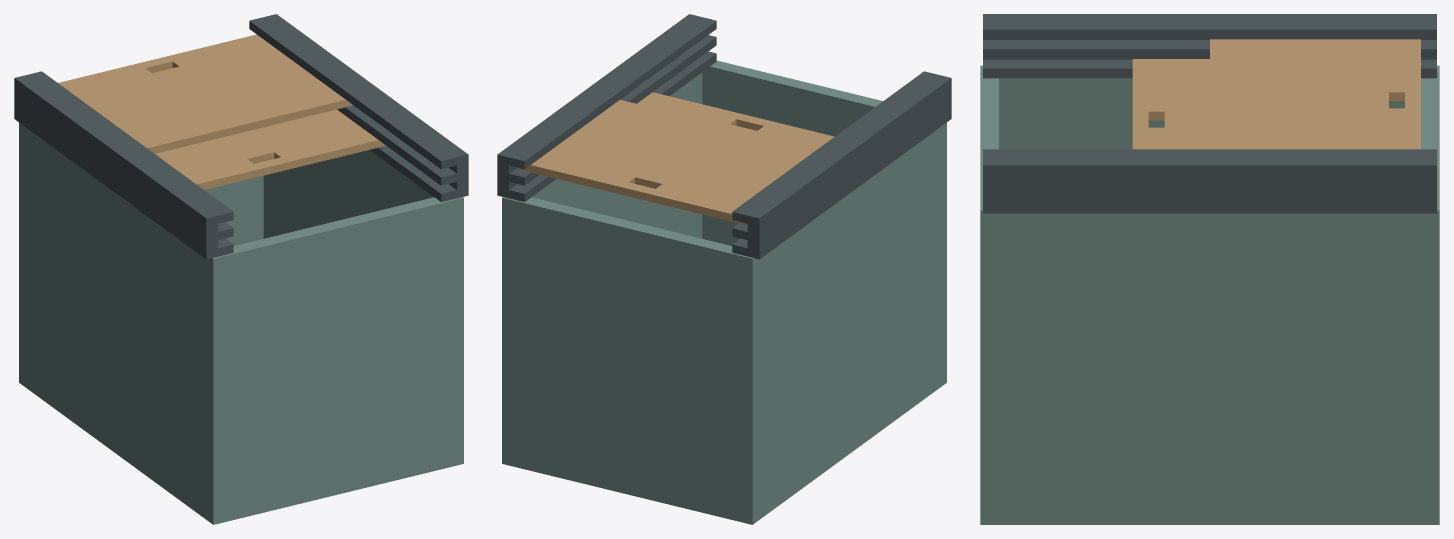
The picture shows the model from 3 angles, left to right: view 1: azimuth 30°, elevation 25°; view 2: azimuth 150°, elevation 25°; view 3: azimuth 270°, elevation 25°; orthographic projection. The views are drawn at different scales.
Visible parts, largest first — view 1: WholeDeepClayChestShell, UpperRearPiercedCover, LeftWholeTwinChannelRail, RightWholeTwinChannelRail, LowerPartlyRetractedPiercedCover; view 2: WholeDeepClayChestShell, UpperRearPiercedCover, LeftWholeTwinChannelRail, RightWholeTwinChannelRail, LowerPartlyRetractedPiercedCover; view 3: WholeDeepClayChestShell, RightWholeTwinChannelRail, UpperRearPiercedCover, LeftWholeTwinChannelRail, LowerPartlyRetractedPiercedCover.
Part boxes in pixels (x1=…): WholeDeepClayChestShell: x1=19, y1=122, x2=463, y2=524; UpperRearPiercedCover: x1=58, y1=34, x2=352, y2=153; LeftWholeTwinChannelRail: x1=14, y1=71, x2=233, y2=259; RightWholeTwinChannelRail: x1=249, y1=14, x2=468, y2=201; LowerPartlyRetractedPiercedCover: x1=155, y1=109, x2=385, y2=189; WholeDeepClayChestShell: x1=502, y1=60, x2=946, y2=524; UpperRearPiercedCover: x1=517, y1=100, x2=818, y2=225; LeftWholeTwinChannelRail: x1=732, y1=71, x2=951, y2=259; RightWholeTwinChannelRail: x1=497, y1=14, x2=716, y2=201; LowerPartlyRetractedPiercedCover: x1=637, y1=92, x2=834, y2=148; WholeDeepClayChestShell: x1=980, y1=65, x2=1439, y2=524; RightWholeTwinChannelRail: x1=983, y1=149, x2=1436, y2=213; UpperRearPiercedCover: x1=1210, y1=39, x2=1420, y2=149; LeftWholeTwinChannelRail: x1=983, y1=14, x2=1436, y2=78; LowerPartlyRetractedPiercedCover: x1=1132, y1=59, x2=1209, y2=149.
Size of the model in its own units: 0.67 by 0.75 by 0.86.
